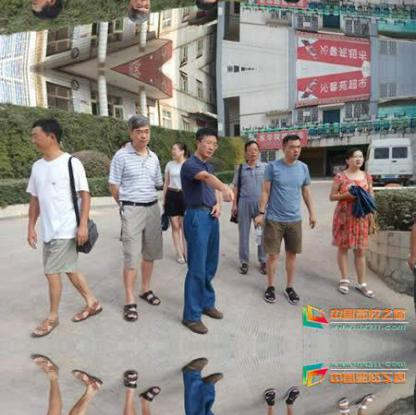head: (27, 116, 62, 155), (123, 111, 152, 147), (192, 125, 220, 158), (122, 0, 152, 26), (26, 0, 62, 21), (279, 132, 304, 161), (339, 145, 366, 169), (240, 138, 261, 163), (166, 140, 184, 161), (192, 0, 221, 12), (278, 0, 304, 5)
